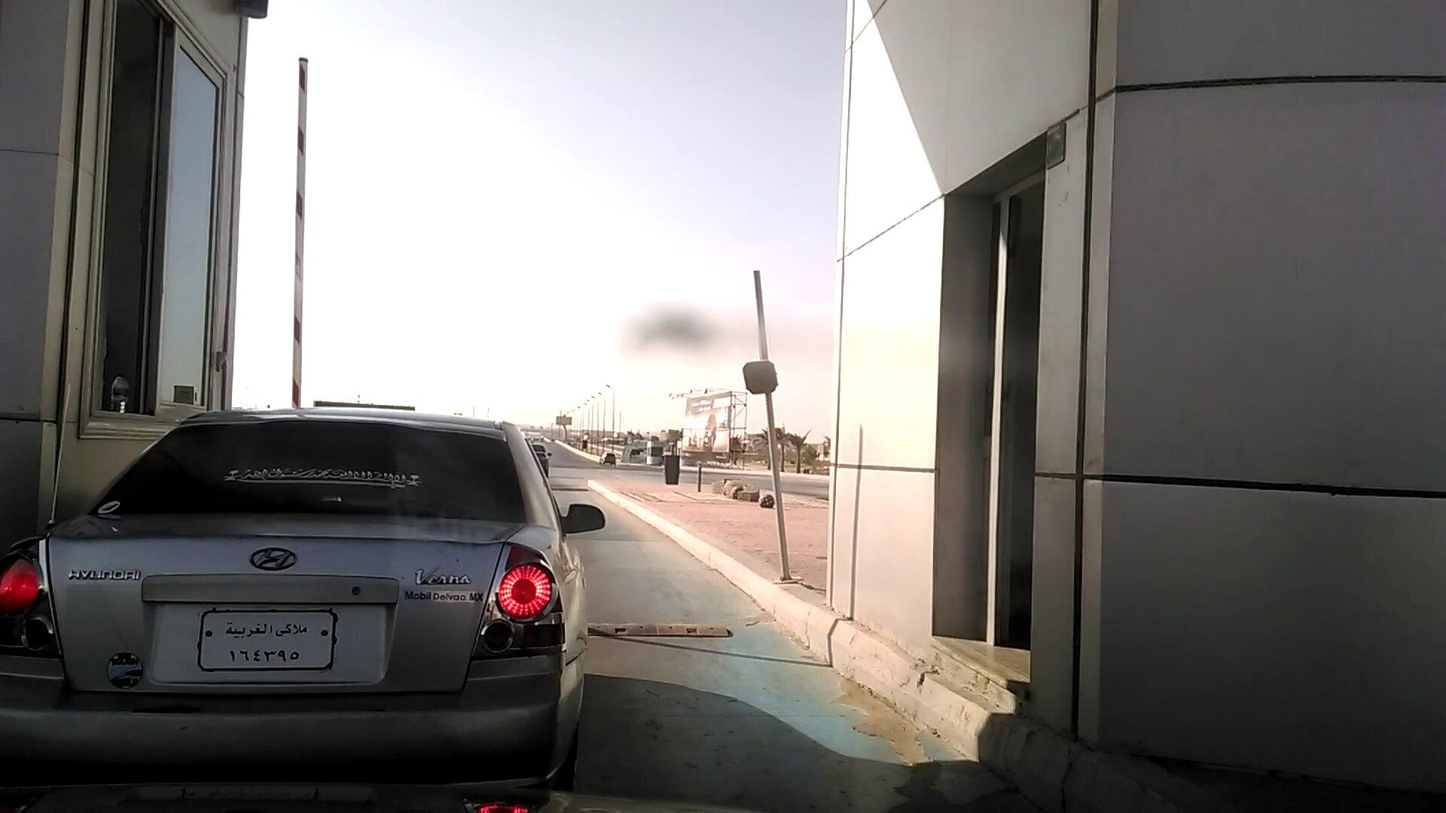Bump: (591, 610, 753, 653)
